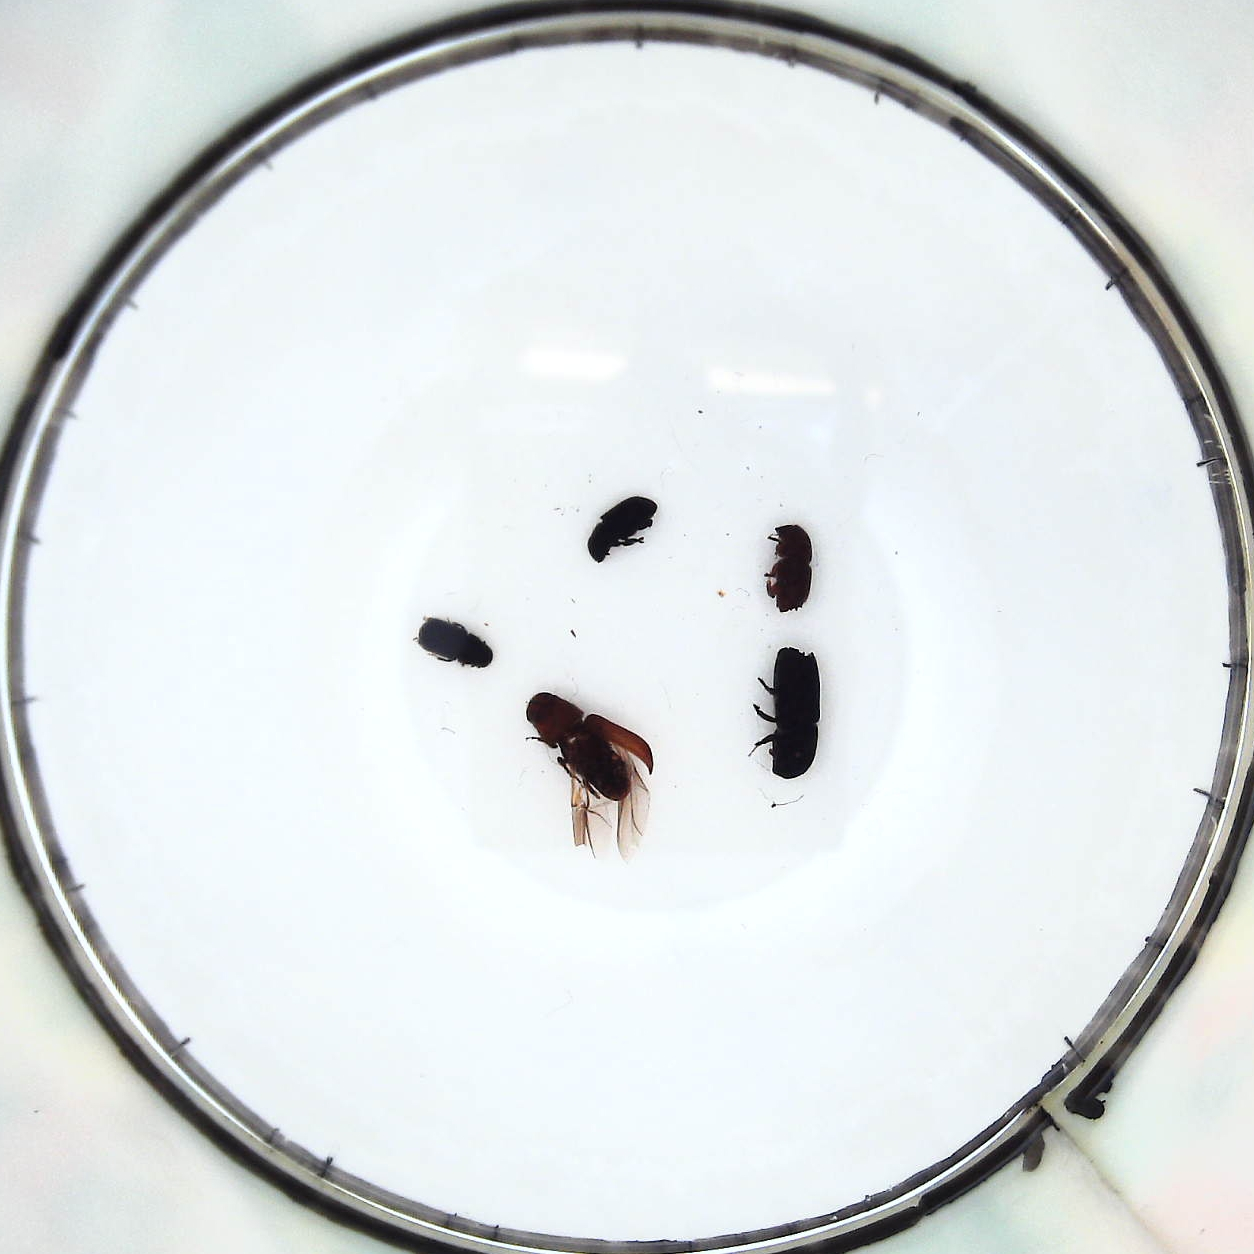Boerner: (761, 640, 820, 779)
Leconte: (527, 686, 655, 847)
Linnaeus: (764, 522, 810, 613)
armandi: (588, 491, 655, 565), (420, 613, 493, 674)
